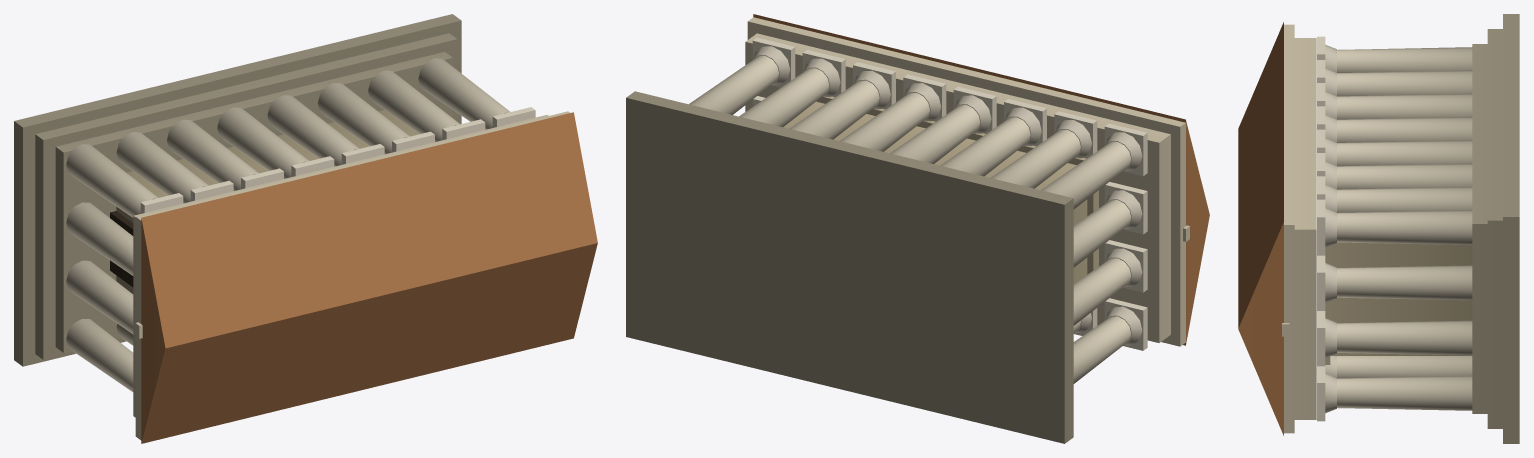
File: parthenon.glb
The picture shows the model from 3 angles, left to right: view 1: azimuth 30°, elevation 25°; view 2: azimuth 150°, elevation 25°; view 3: azimuth 270°, elevation 25°; orthographic projection. The views are drawn at different scales.
Visible parts, largest first — view 1: part-roof, part-base, part-column, part-capital, part-entab, part-cella, part-arch; view 2: part-base, part-column, part-entab, part-capital, part-roof, part-cella; view 3: part-column, part-base, part-roof, part-entab, part-cella, part-capital.
Part boxes in pixels (<box>): part-roof: <box>141,112,597,443</box>; part-base: <box>14,14,461,366</box>; part-column: <box>66,58,510,391</box>; part-capital: <box>140,107,535,213</box>; part-entab: <box>133,111,569,440</box>; part-cella: <box>116,110,419,293</box>; part-arch: <box>110,211,133,287</box>; part-base: <box>626,91,1073,443</box>; part-column: <box>689,56,1131,383</box>; part-entab: <box>745,17,1189,346</box>; part-capital: <box>752,37,1147,350</box>; part-roof: <box>753,14,1209,345</box>; part-cella: <box>783,96,1098,283</box>; part-column: <box>1337,47,1472,410</box>; part-base: <box>1472,14,1519,443</box>; part-roof: <box>1238,22,1283,435</box>; part-entab: <box>1282,24,1316,433</box>; part-cella: <box>1325,242,1472,364</box>; part-capital: <box>1317,36,1336,421</box>.
Size of the model in its own units: 1.42 by 0.74 by 0.832.
